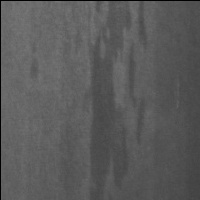inclusion: (85, 2, 148, 191), (25, 43, 44, 83)
